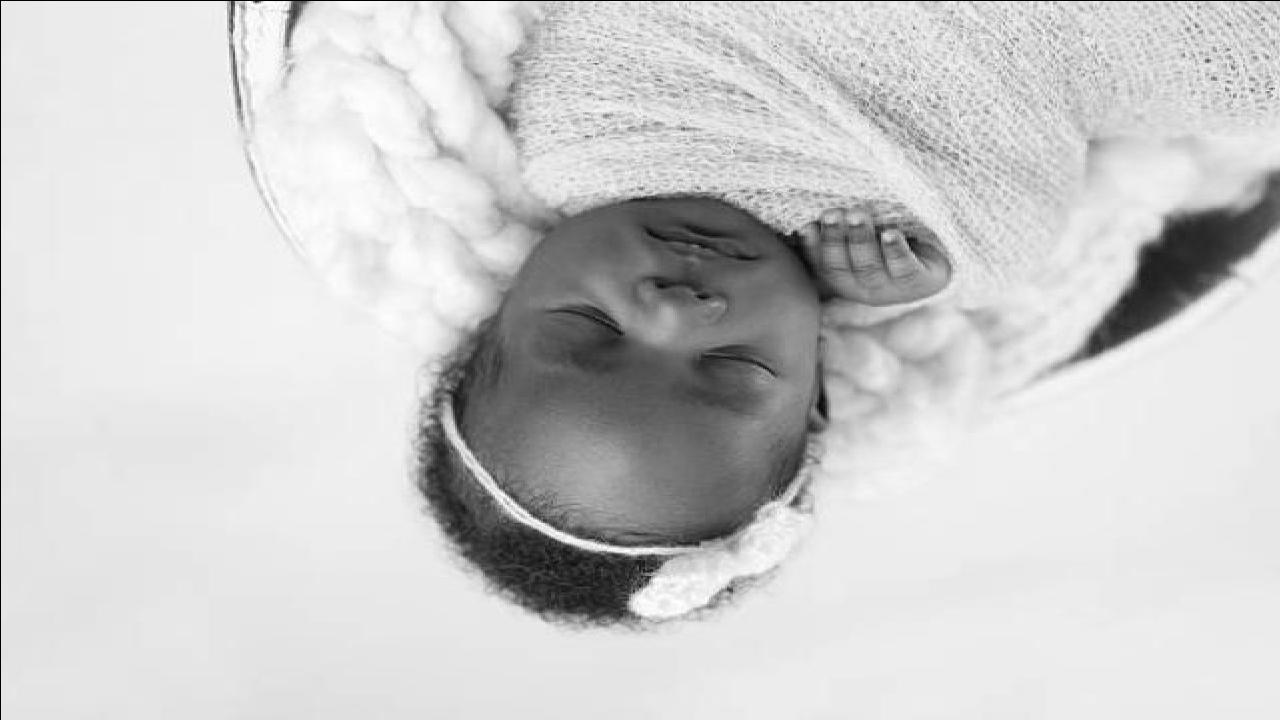hand: (796, 206, 946, 298)
